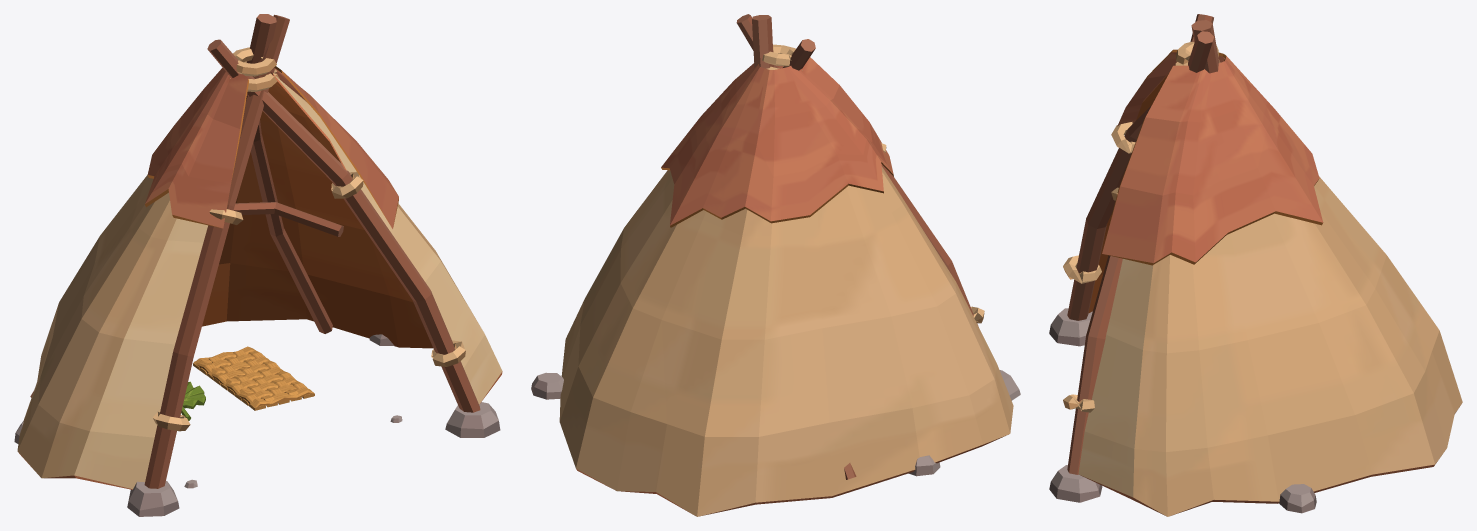
Rendered from 04_Sand_Swept_Cap.glb.
3 views of the same model, side by side, from view 1: azimuth 30°, elevation 25°; view 2: azimuth 150°, elevation 25°; view 3: azimuth 270°, elevation 25° (orthographic). The views are drawn at different scales.
Parts seen in each view (by area): view 1: 04_Sand_Swept_Cap; view 2: 04_Sand_Swept_Cap; view 3: 04_Sand_Swept_Cap.
Boxes of the visible parts, x1,y1,x2,y2 form: 04_Sand_Swept_Cap: [14, 14, 502, 516]; 04_Sand_Swept_Cap: [531, 14, 1020, 516]; 04_Sand_Swept_Cap: [1049, 14, 1462, 516].
Bounding box in the file's own units: 9.39 × 8.21 × 7.5.
Materials: 3 (3 with a texture image).
